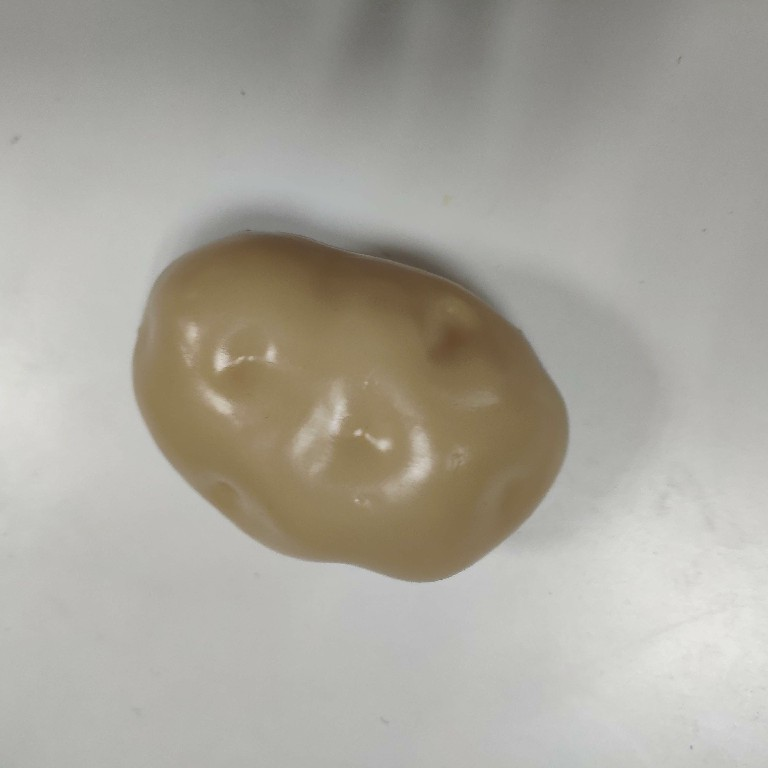fruit_potato: (122, 222, 576, 586)
